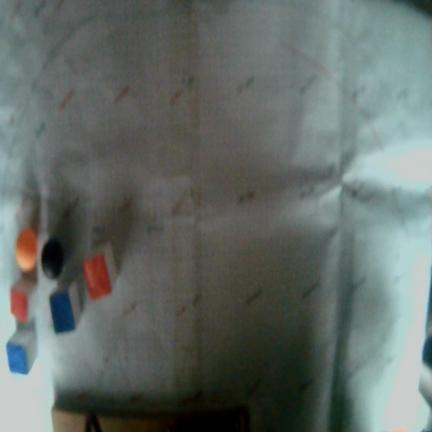circle_blue: (41, 237, 64, 279)
circle_orange: (15, 228, 36, 272)
rectangle_blue: (7, 342, 27, 376)
rectangle_orange: (10, 287, 29, 325)
square_blue: (48, 290, 76, 334)
square_orange: (84, 256, 113, 300)
